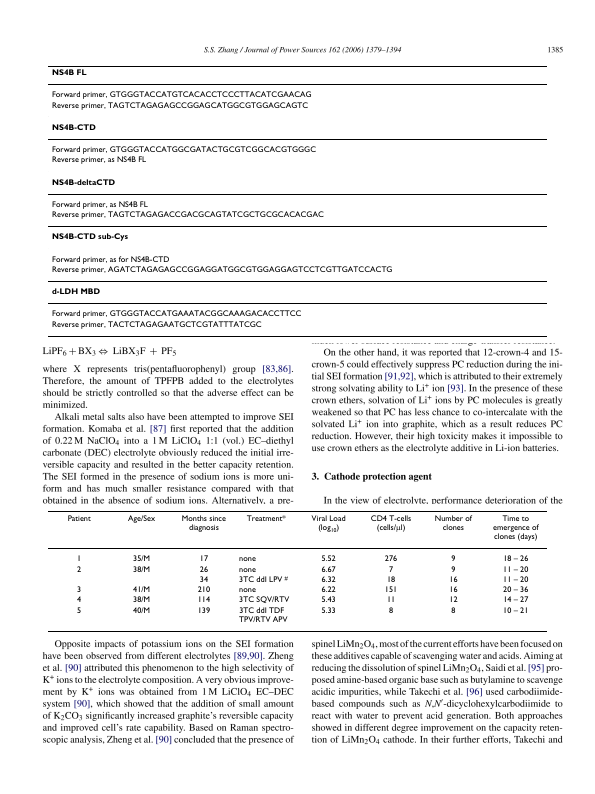borderless: (47, 64, 547, 336), (47, 509, 547, 631)
cell: (50, 265, 393, 275), (50, 210, 324, 220), (50, 145, 317, 155), (50, 101, 309, 111), (50, 91, 312, 100), (50, 310, 302, 319), (50, 320, 262, 330), (491, 513, 539, 542), (50, 255, 170, 265), (50, 200, 148, 210), (238, 605, 288, 624), (369, 512, 412, 534), (180, 513, 226, 532), (50, 156, 147, 165), (310, 513, 346, 534), (433, 513, 472, 532), (50, 233, 129, 242), (50, 178, 116, 188), (238, 595, 290, 605), (238, 574, 288, 584), (50, 123, 96, 133), (50, 288, 100, 297), (245, 513, 286, 523), (50, 69, 87, 78), (126, 513, 156, 523), (502, 554, 529, 564), (502, 564, 529, 574), (502, 585, 529, 595), (502, 595, 529, 605), (502, 605, 529, 615), (66, 513, 91, 523), (502, 575, 529, 584), (132, 554, 151, 564), (132, 564, 151, 574), (132, 585, 151, 595), (132, 595, 151, 605), (132, 605, 151, 615), (238, 554, 256, 564), (238, 564, 256, 574), (238, 585, 256, 595), (320, 554, 336, 564), (320, 564, 336, 574), (320, 585, 336, 595), (320, 595, 336, 605), (320, 605, 336, 615), (383, 554, 398, 564), (196, 585, 211, 595), (383, 585, 398, 595), (196, 595, 211, 605), (196, 605, 211, 615), (320, 575, 336, 584), (198, 554, 209, 564), (198, 564, 209, 574), (385, 595, 396, 605), (448, 585, 458, 595), (448, 595, 458, 605), (198, 575, 209, 584), (385, 575, 396, 584), (448, 575, 458, 584), (387, 564, 394, 574), (387, 605, 394, 615), (76, 554, 82, 564), (450, 554, 456, 564), (76, 564, 82, 574), (450, 564, 456, 574), (76, 585, 82, 595), (76, 595, 82, 605), (76, 605, 82, 615), (450, 605, 456, 615)
